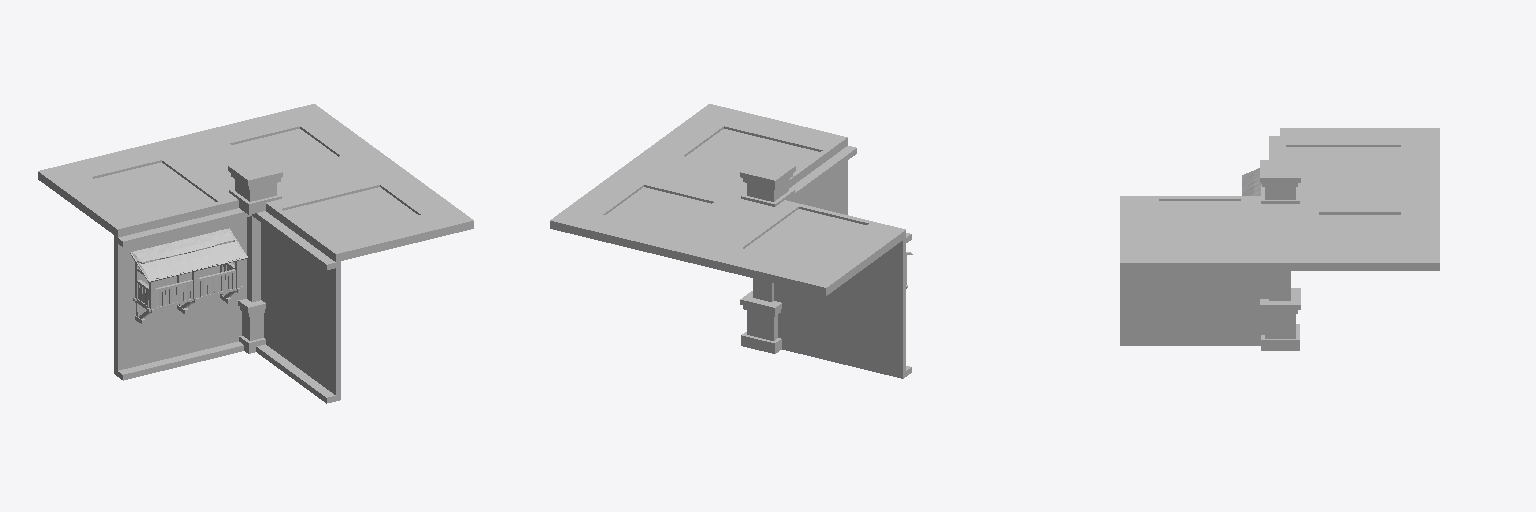
The picture shows the model from 3 angles: view 1: azimuth 30°, elevation 25°; view 2: azimuth 150°, elevation 25°; view 3: azimuth 270°, elevation 25°; orthographic projection.
Visible parts, largest first — view 1: object_2, object_1, Cube.049_Cube.075, object_26, object_28, object_8, object_12, object_7, object_10, object_27, object_5, object_4 (+11 smaller); view 2: object_2, object_28, object_12, object_26, object_27, object_10, object_8, object_3, object_5, object_4, object_1, object_7 (+7 smaller); view 3: object_1, object_26, object_28, object_27, object_12, object_8, object_3, object_7, object_10, object_5, object_4, object_6 (+6 smaller).
Boxes of the visible parts, x1=… form: object_2: x1=114, y1=198, x2=246, y2=376; object_1: x1=261, y1=202, x2=340, y2=400; Cube.049_Cube.075: x1=130, y1=228, x2=247, y2=324; object_26: x1=267, y1=187, x2=473, y2=261; object_28: x1=38, y1=162, x2=235, y2=236; object_8: x1=322, y1=206, x2=473, y2=260; object_12: x1=38, y1=163, x2=147, y2=228; object_7: x1=271, y1=162, x2=413, y2=210; object_10: x1=143, y1=138, x2=235, y2=201; object_27: x1=233, y1=129, x2=337, y2=169; object_5: x1=211, y1=104, x2=332, y2=144; object_4: x1=281, y1=148, x2=393, y2=186; object_2: x1=774, y1=200, x2=905, y2=378; object_28: x1=688, y1=209, x2=896, y2=295; object_12: x1=792, y1=224, x2=902, y2=295; object_26: x1=686, y1=129, x2=847, y2=186; object_27: x1=551, y1=187, x2=710, y2=261; object_10: x1=688, y1=202, x2=798, y2=270; object_8: x1=691, y1=104, x2=841, y2=151; object_3: x1=654, y1=188, x2=757, y2=261; object_5: x1=550, y1=206, x2=672, y2=251; object_4: x1=610, y1=162, x2=733, y2=203; object_1: x1=789, y1=136, x2=847, y2=214; object_7: x1=630, y1=148, x2=746, y2=190; object_1: x1=1120, y1=196, x2=1268, y2=345; object_26: x1=1120, y1=201, x2=1279, y2=270; object_28: x1=1286, y1=147, x2=1400, y2=178; object_27: x1=1280, y1=215, x2=1439, y2=270; object_12: x1=1286, y1=128, x2=1439, y2=146; object_8: x1=1120, y1=199, x2=1158, y2=270; object_3: x1=1280, y1=196, x2=1439, y2=214; object_7: x1=1241, y1=199, x2=1279, y2=270; object_10: x1=1298, y1=179, x2=1439, y2=195; object_5: x1=1401, y1=212, x2=1439, y2=270; object_4: x1=1280, y1=212, x2=1318, y2=270; object_6: x1=1319, y1=247, x2=1400, y2=270.
Size of the model in its own units: 20 by 12.01 by 20.